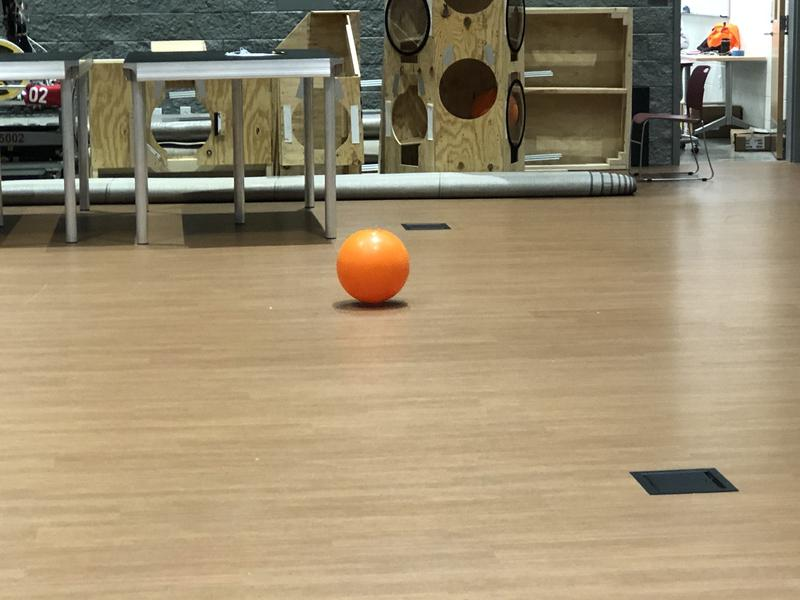ball: (336, 227, 409, 305)
